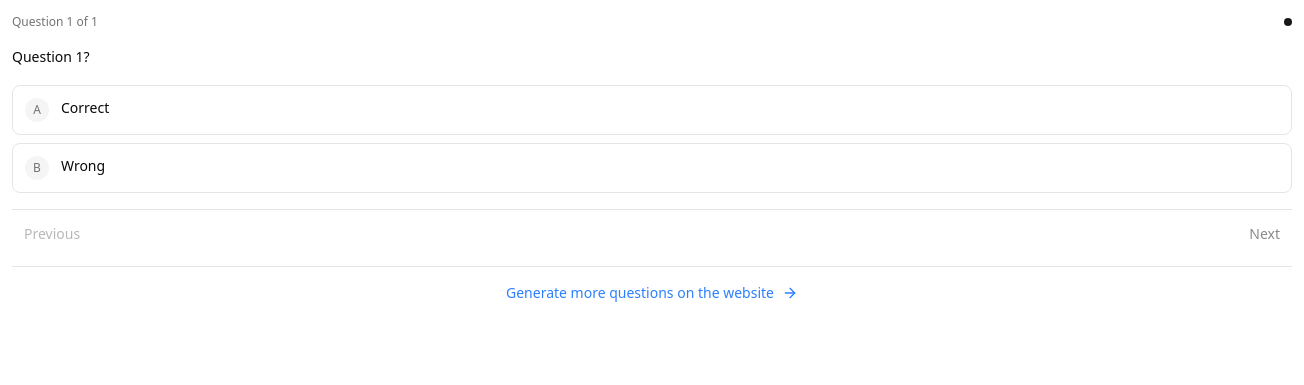
Test case: QuizView › option selection and feedback › highlights correct answer visually
This screenshot has width=1304, height=385.
Click the text "Wrong": {"x": 83, "y": 165} left=61, top=156, right=105, bottom=175
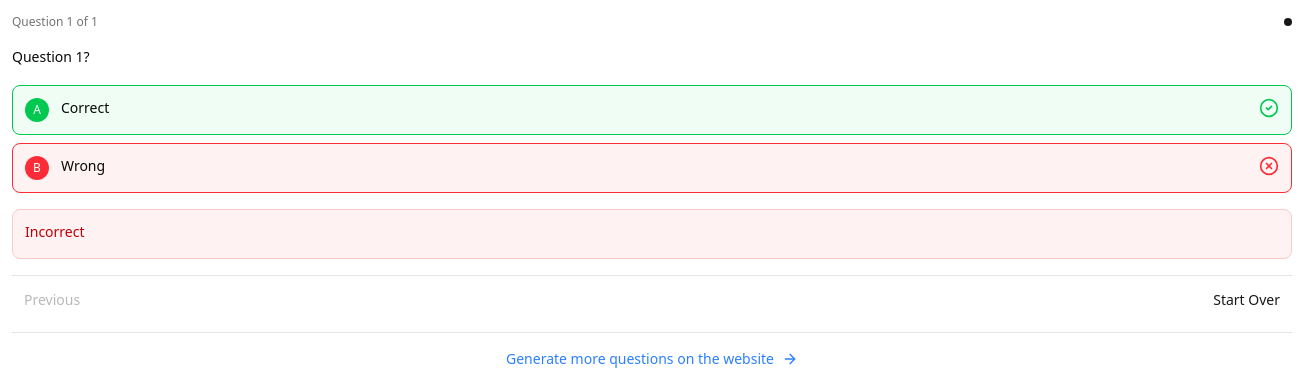
Expected: the button "A Correct" is shown, left=12, top=85, right=1292, bottom=135
Now the 1st icon is shown, box left=1259, top=98, right=1279, bottom=118
